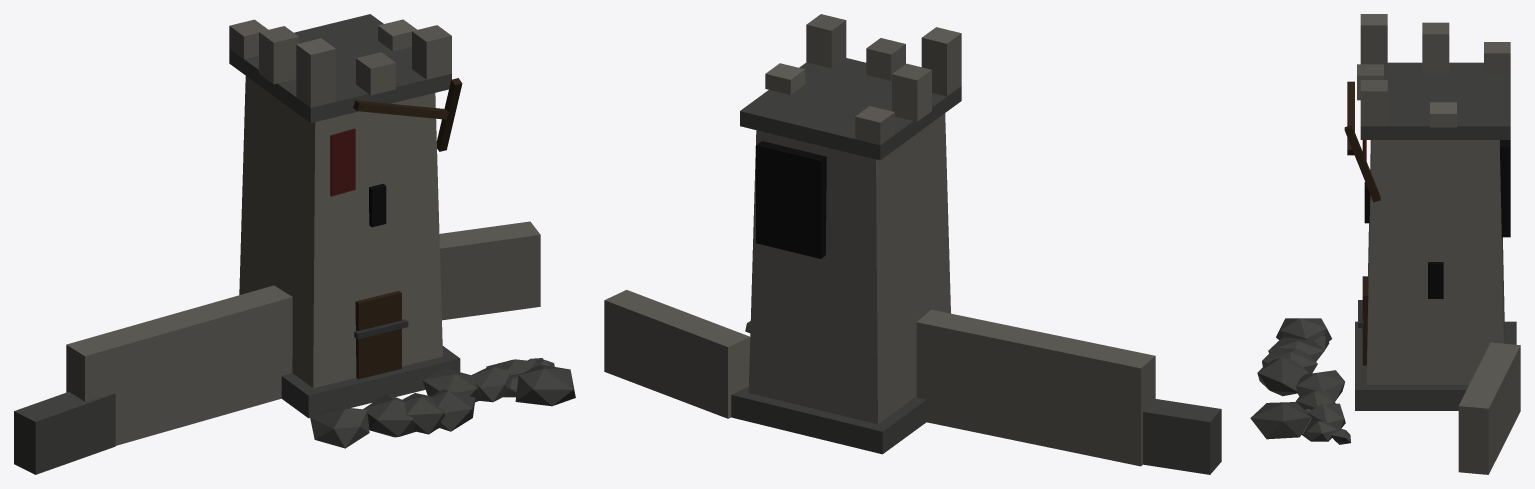
File: watch_post.glb
The picture shows the model from 3 angles, left to right: view 1: azimuth 30°, elevation 25°; view 2: azimuth 150°, elevation 25°; view 3: azimuth 270°, elevation 25°; orthographic projection. The views are drawn at different scales.
Visible parts, largest first — view 1: WatchPost; view 2: WatchPost; view 3: WatchPost.
Boxes of the visible parts, box(x1,y1,x2,y2) form: WatchPost: box(14, 14, 575, 474); WatchPost: box(604, 14, 1221, 474); WatchPost: box(1250, 14, 1520, 474).
Bounding box in the file's own units: 15.54 × 9.7 × 7.03.
